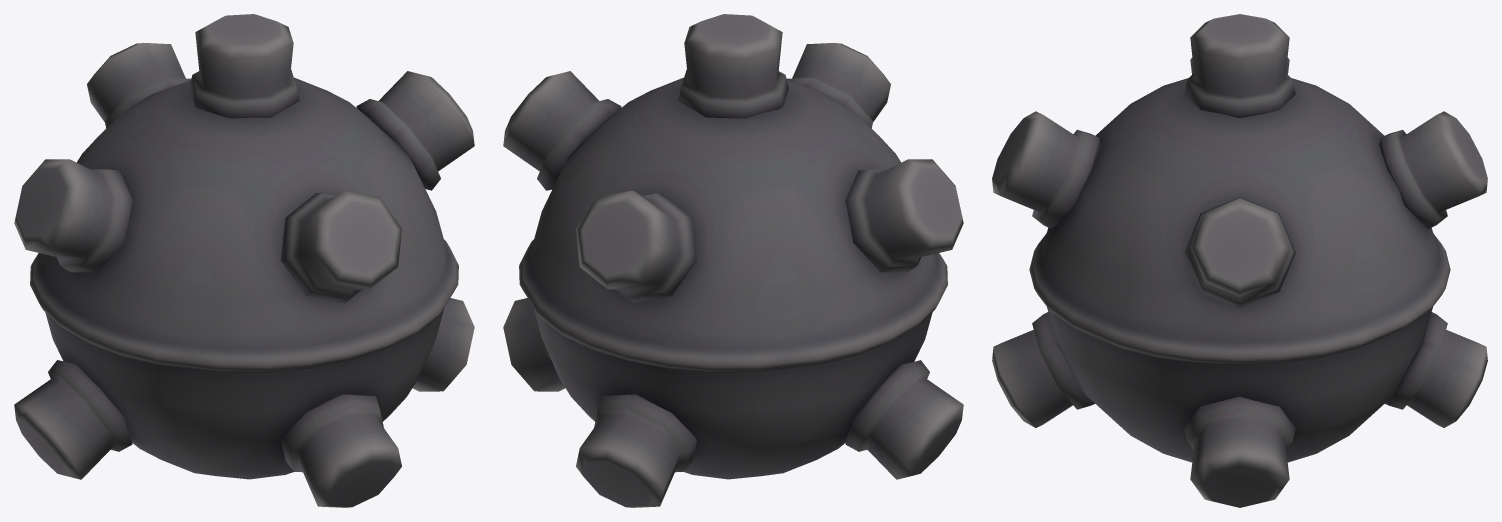
Rendered from mine.fbx.
3 renders of one model, left to right at view 1: azimuth 30°, elevation 25°; view 2: azimuth 150°, elevation 25°; view 3: azimuth 270°, elevation 25°, orthographic. The views are drawn at different scales.
Visible parts, largest first — view 1: mine; view 2: mine; view 3: mine.
Boxes of the visible parts, x1,y1,x2,y2 form: mine: [14, 14, 474, 507]; mine: [503, 14, 963, 507]; mine: [992, 14, 1487, 507].
Size of the model in its own units: 138 by 129 by 138.
1 material, 1 textured.
